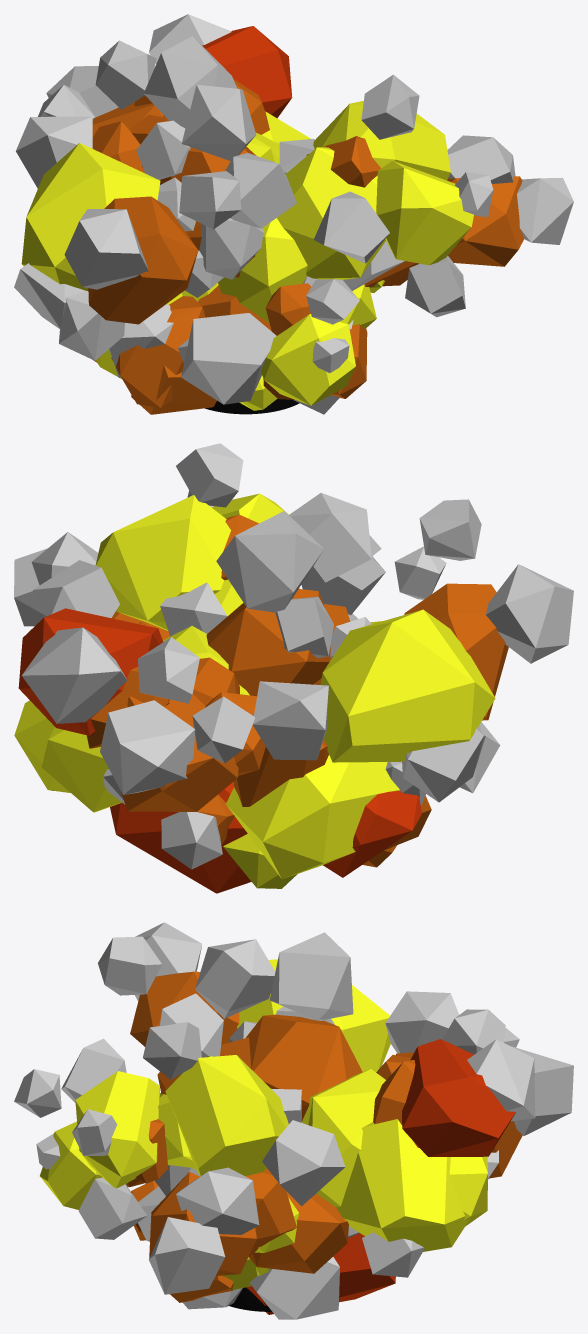
Rendered from Explosion0013.obj.
3 views of the same model, one above another, from view 1: azimuth 30°, elevation 25°; view 2: azimuth 150°, elevation 25°; view 3: azimuth 270°, elevation 25° (orthographic). The views are drawn at different scales.
Parts seen in each view (by area): view 1: Cube_Material, Cube.002_Material.003, Cube.001_Material.002, Cube.003_Material.004, Circle_Material.001; view 2: Cube_Material, Cube.002_Material.003, Cube.001_Material.002, Cube.003_Material.004; view 3: Cube_Material, Cube.002_Material.003, Cube.001_Material.002, Cube.003_Material.004, Circle_Material.001.
Part boxes in pixels (<box>): Cube_Material: <box>14,14,573,414</box>; Cube.002_Material.003: <box>21,100,473,410</box>; Cube.001_Material.002: <box>88,79,524,414</box>; Cube.003_Material.004: <box>93,26,292,362</box>; Circle_Material.001: <box>205,398,299,414</box>; Cube_Material: <box>14,443,573,869</box>; Cube.002_Material.003: <box>14,493,495,888</box>; Cube.001_Material.002: <box>86,514,508,867</box>; Cube.003_Material.004: <box>18,608,421,893</box>; Cube_Material: <box>14,922,573,1319</box>; Cube.002_Material.003: <box>40,959,487,1289</box>; Cube.001_Material.002: <box>126,971,522,1302</box>; Cube.003_Material.004: <box>246,1039,515,1314</box>; Circle_Material.001: <box>229,1287,272,1311</box>.
Bounding box in the file's own units: 8.34 × 5.44 × 8.15.
